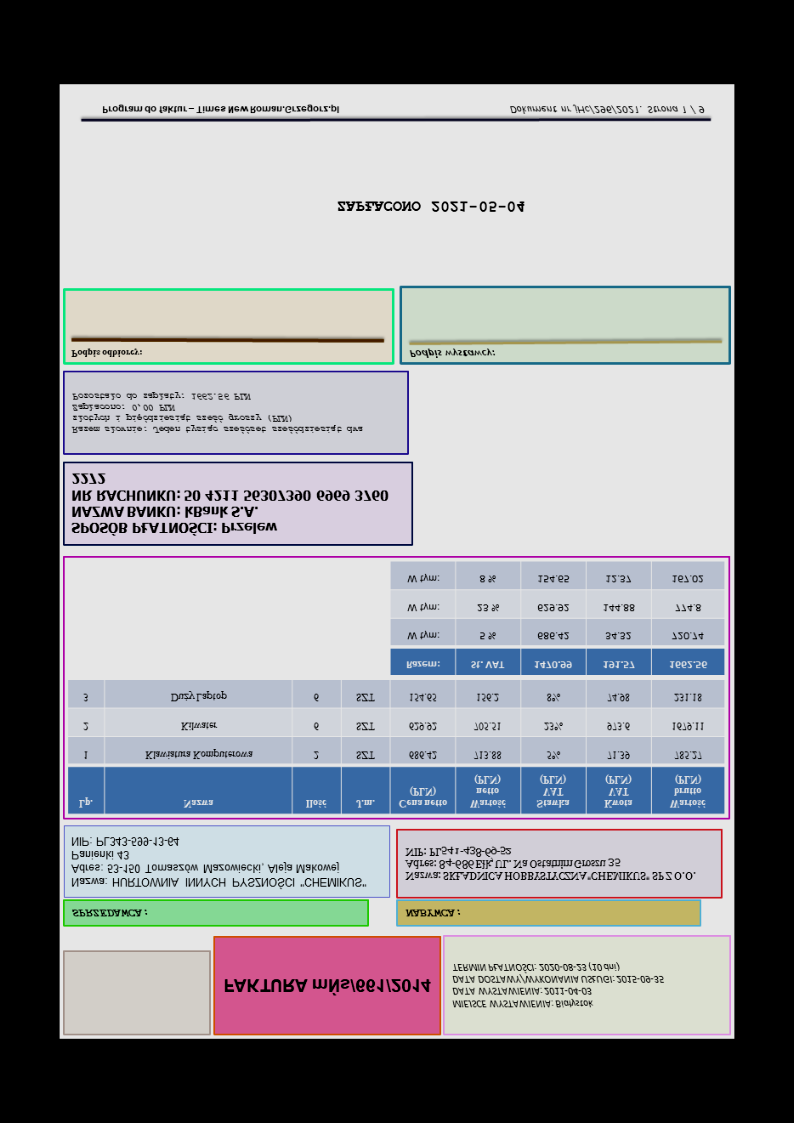Table: (67, 678, 725, 815), (388, 560, 726, 677)
TextBox: (69, 470, 389, 537), (69, 834, 369, 891), (70, 390, 366, 437), (403, 844, 698, 884), (451, 961, 666, 1011), (223, 977, 433, 997), (100, 102, 341, 116), (336, 198, 527, 215), (508, 103, 706, 117), (407, 347, 496, 360), (71, 907, 149, 919), (70, 347, 142, 360), (403, 907, 462, 919)
